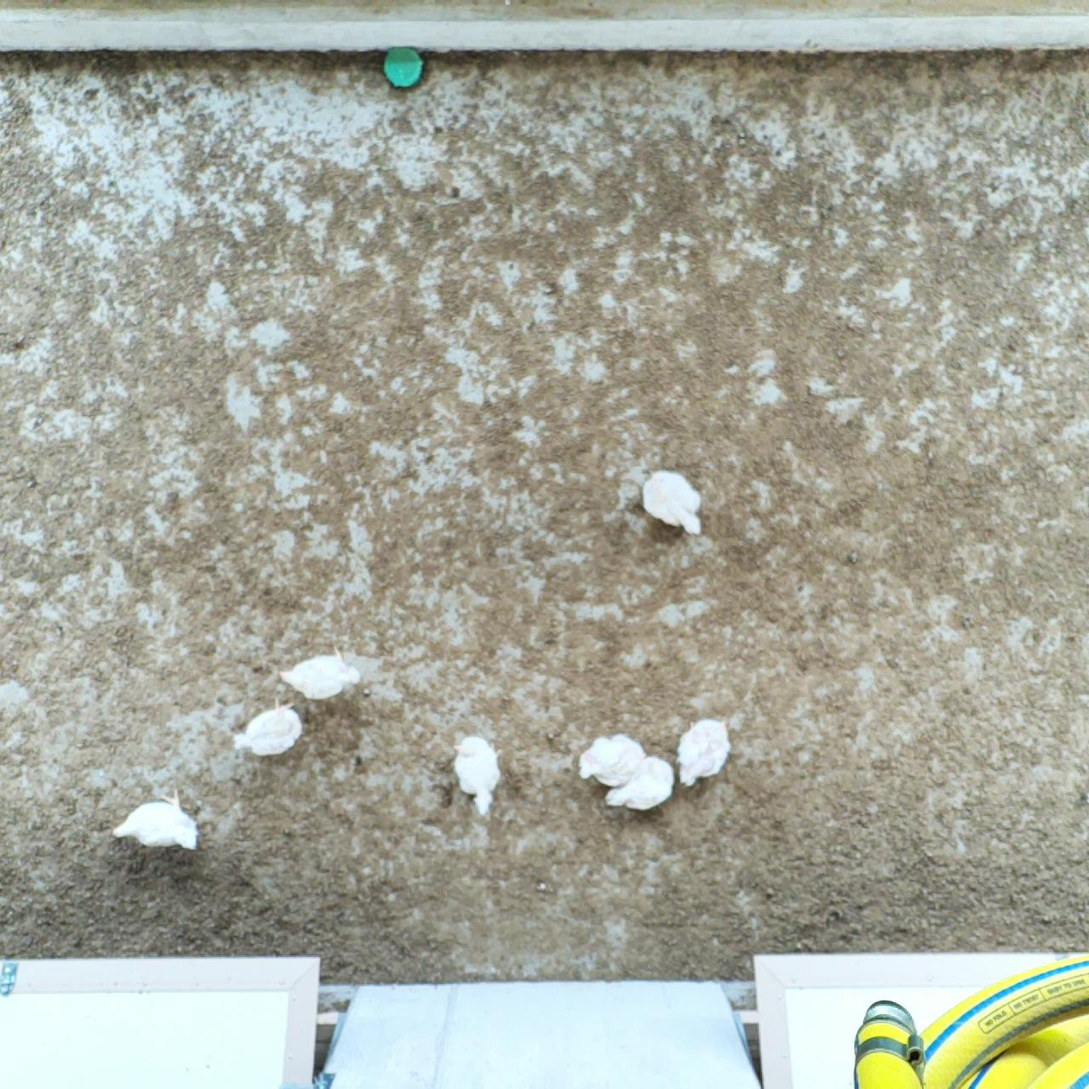chicken: (110, 788, 202, 857), (232, 691, 308, 760), (642, 467, 707, 544), (278, 646, 368, 701), (450, 733, 507, 817), (602, 753, 683, 812), (673, 715, 737, 788), (577, 729, 645, 788)
